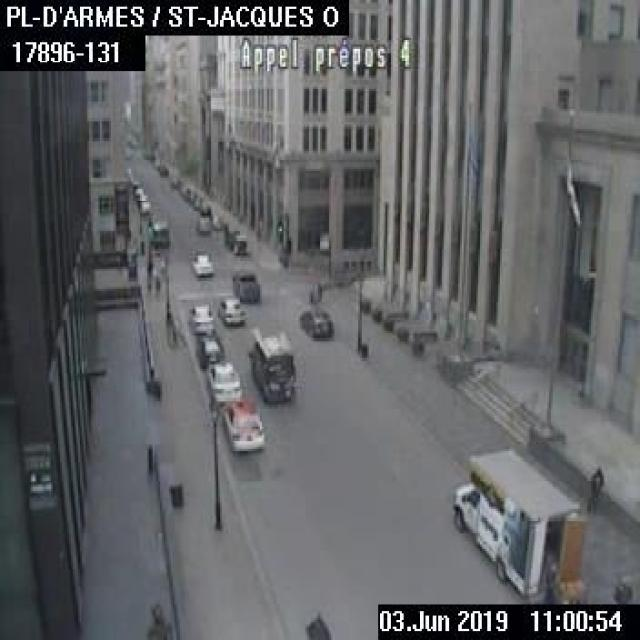bus: (246, 333, 294, 402)
pedestrian: (585, 462, 603, 514), (153, 272, 160, 296), (307, 281, 314, 302), (315, 281, 320, 300)
vehicle: (451, 448, 582, 598), (224, 399, 264, 453), (204, 358, 240, 402), (298, 304, 333, 338), (193, 325, 222, 366), (230, 269, 258, 301), (217, 296, 244, 325), (188, 302, 212, 334), (189, 251, 213, 276), (150, 222, 168, 244), (231, 234, 246, 252), (226, 227, 239, 247), (197, 215, 209, 233), (138, 198, 148, 212)
